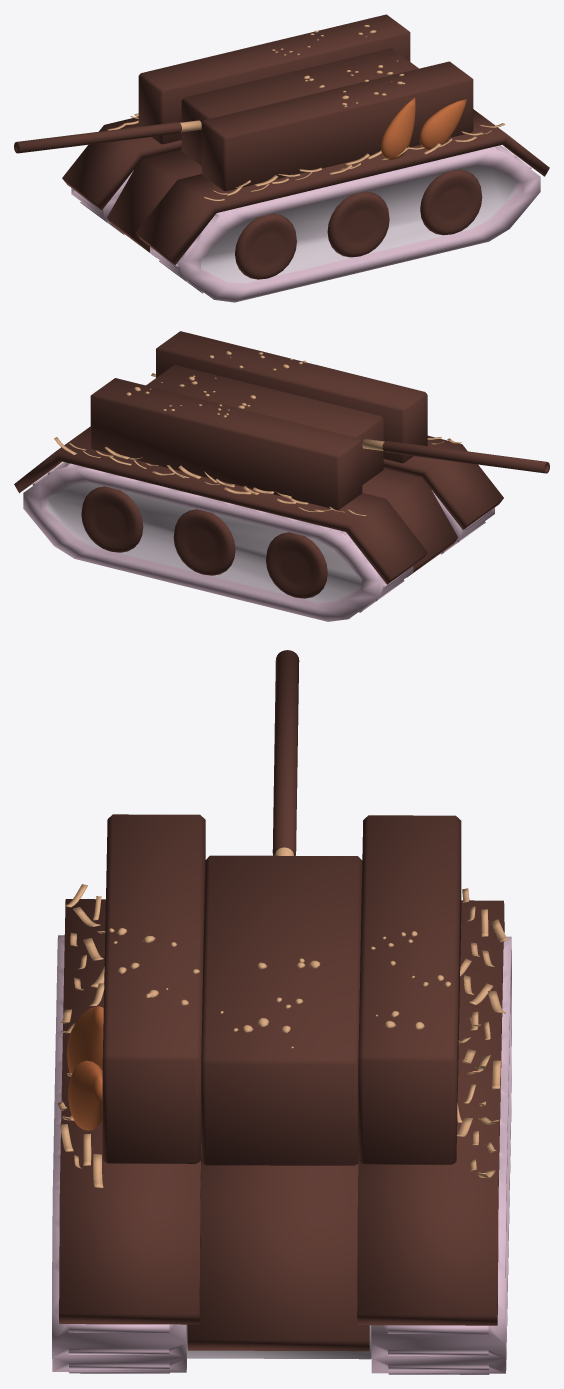
File: tanks1.fbx
3 views of the same model, one above another, from view 1: azimuth 30°, elevation 25°; view 2: azimuth 150°, elevation 25°; view 3: azimuth 270°, elevation 25° (orthographic). The views are drawn at different scales.
Parts seen in each view (by area): view 1: Tank_ciocolata; view 2: Tank_ciocolata; view 3: Tank_ciocolata.
Part boxes in pixels (x1,y1,x2,y2): Tank_ciocolata: [14, 14, 549, 302]; Tank_ciocolata: [14, 331, 549, 621]; Tank_ciocolata: [52, 650, 511, 1374].
Bounding box in the file's own units: 2074 × 658 × 865.
